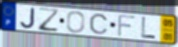C: (89, 13, 110, 36)
F: (117, 14, 137, 38)
J: (19, 7, 37, 30)
L: (141, 16, 158, 41)
O: (66, 10, 87, 34)
Z: (37, 7, 61, 33)
